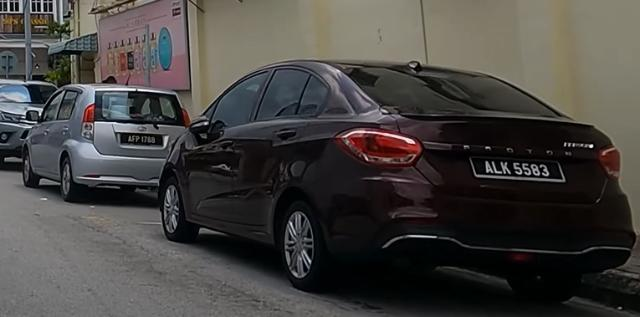License_Plate: (475, 160, 563, 181), (124, 136, 162, 145)
car: (159, 59, 638, 302), (22, 84, 193, 203)
